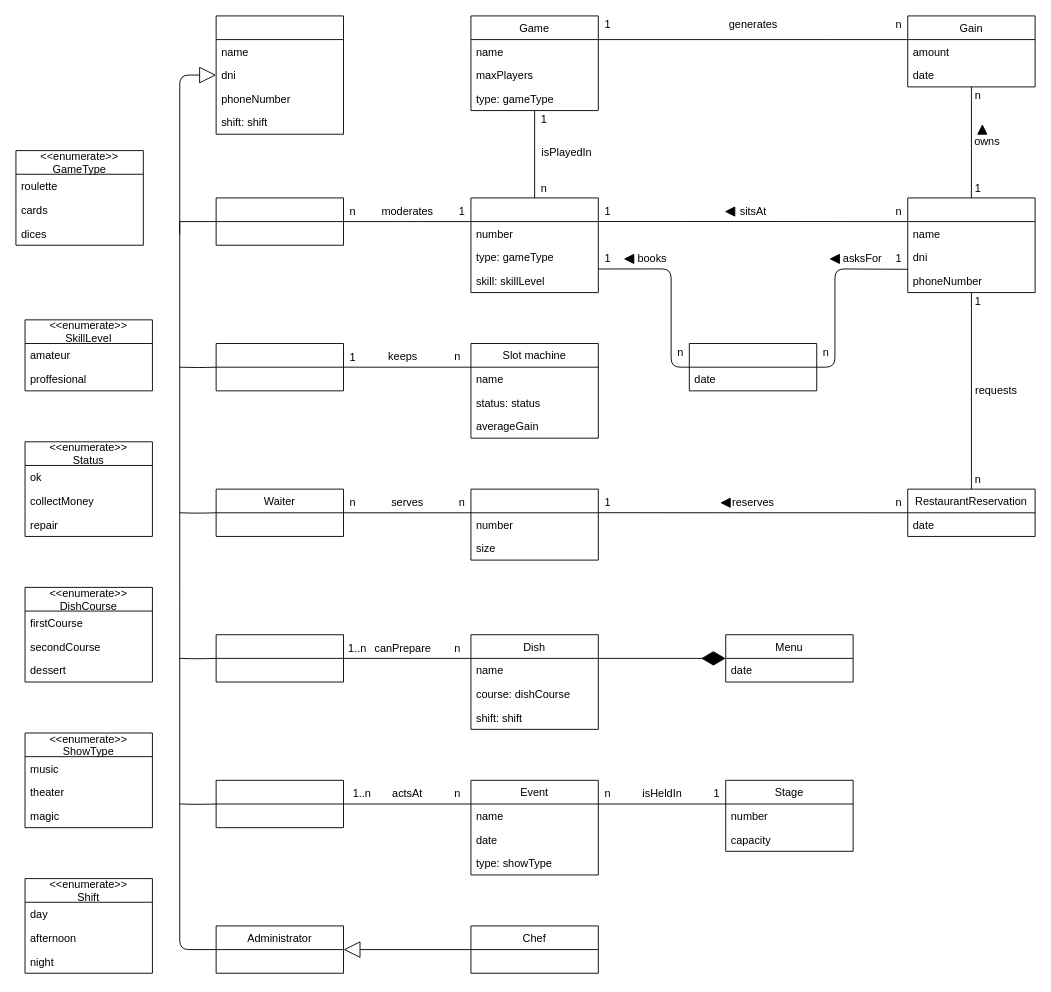
The diagram is 1051 pixels wide and 992 high, and some of its shapes have lost their labels. The shapes that lost their labels are listed below. From the top down, each one's box as (x1, y1, x2, y2) in pixels, then its label:
(215, 15, 344, 134): Employee
(215, 197, 344, 245): Croupier
(470, 197, 598, 293): CasinoTable
(907, 197, 1035, 293): Client
(215, 343, 344, 391): MaintenanceWorker
(688, 343, 817, 391): CasinoReservation
(470, 488, 598, 560): RestaurantTable
(215, 634, 344, 682): Cook
(215, 779, 344, 828): Artist
